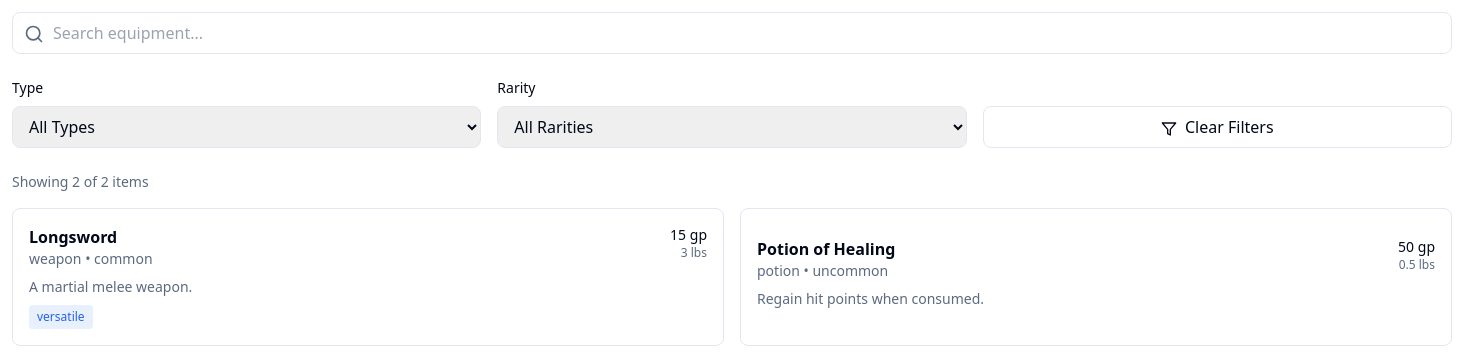
Test: EquipmentBrowser › filters by search term and shows empty state when no match
Type "potion" into the field with placeholder "Search equipment..." at (732, 33), box [12,12,1452,54]
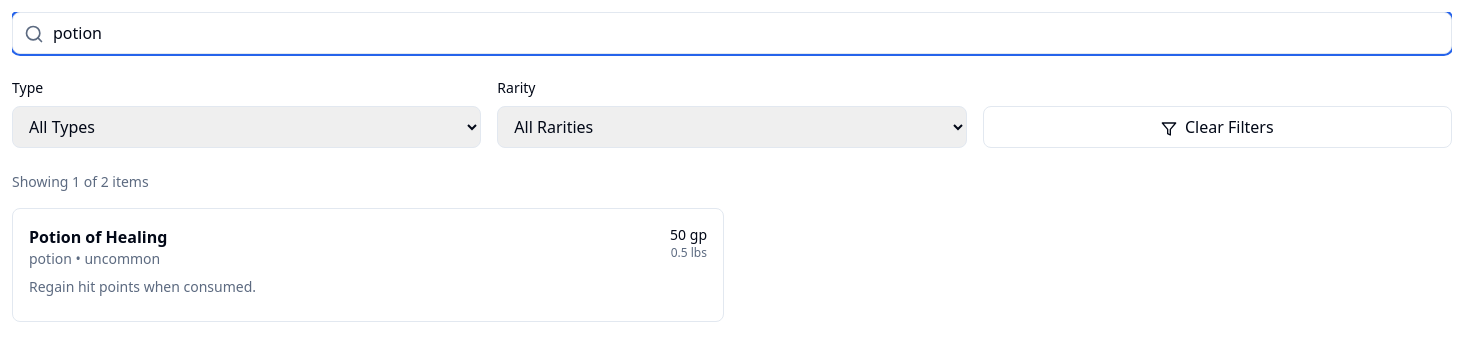
expect the heading "Potion of Healing" is shown: met, box [29,225,167,249]
expect the text "Showing 1 of 2 items" is shown: met, box [12,172,149,191]
expect the button "Longsword" is gone: met
Replace the text in the field with placeholder "Search equipment..." with "nonexistent" at (732, 33), box [12,12,1452,54]
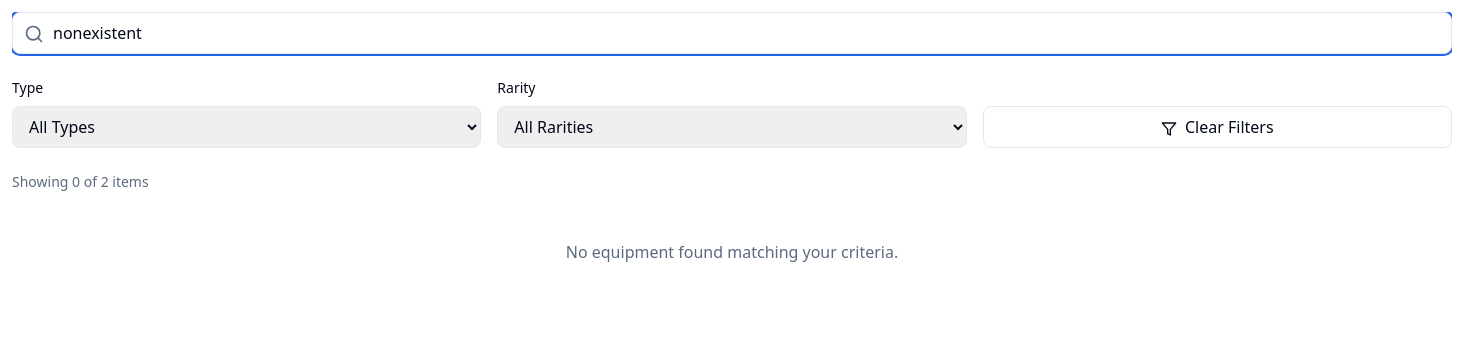
expect the text "No equipment found matching your criteria." is shown: met, box [566,241,898,263]
